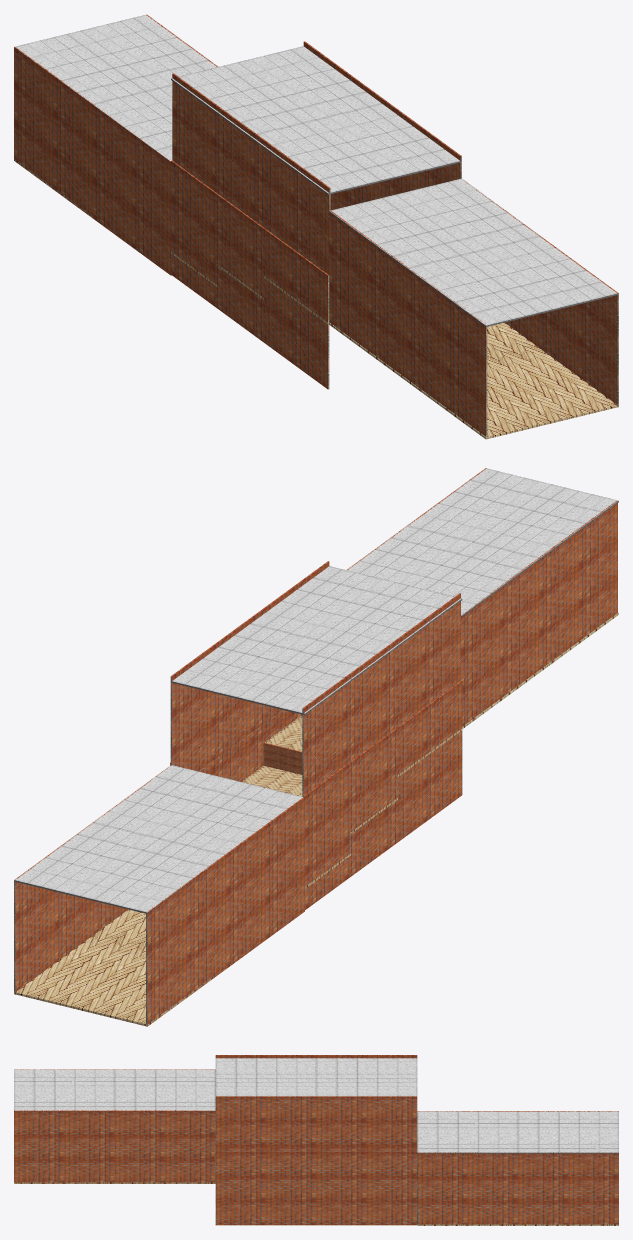
Rendered from Hallway_Stairs.fbx.
The picture shows the model from 3 angles, top to bottom: view 1: azimuth 30°, elevation 25°; view 2: azimuth 150°, elevation 25°; view 3: azimuth 270°, elevation 25°; orthographic projection. The views are drawn at different scales.
Visible parts, largest first — view 1: pasted__Wall1 (×2), pasted__Floor2 (×2), pasted__Floor7, pasted__Wall9, pasted__Wall11, pasted__Floor1, pasted__Wall2, pasted__Wall12; view 2: pasted__Floor2 (×2), pasted__Wall1 (×2), pasted__Floor7, pasted__Wall9, pasted__Wall11, pasted__Floor1, pasted__Wall12, pasted__Wall2, pasted__Wall10, pasted__Floor5, pasted__Wall8, pasted__Floor6; view 3: pasted__Wall2 (×2), pasted__Floor2 (×2), pasted__Wall10, pasted__Wall12, pasted__Floor7, pasted__Wall11, pasted__Floor1 (×2).
Boxes of the visible parts, x1,y1,x2,y2 form: pasted__Wall1 (×2): (14,46,487,436); pasted__Floor2 (×2): (14,15,618,326); pasted__Floor7: (171,46,460,194); pasted__Wall9: (171,160,329,389); pasted__Wall11: (172,73,330,274); pasted__Floor1: (329,322,618,439); pasted__Wall2: (461,178,618,406); pasted__Wall12: (303,41,461,201); pasted__Floor2 (×2): (14,468,618,913); pasted__Wall1 (×2): (146,501,617,1026); pasted__Floor7: (171,566,462,715); pasted__Wall9: (303,681,462,909); pasted__Wall11: (302,593,460,796); pasted__Floor1: (14,909,232,1026); pasted__Wall12: (170,561,329,771); pasted__Wall2: (14,765,171,993); pasted__Wall10: (170,710,301,781); pasted__Floor5: (242,766,397,833); pasted__Wall8: (263,742,397,797); pasted__Floor6: (265,715,462,776); pasted__Wall2 (×2): (14,1110,618,1224); pasted__Floor2 (×2): (14,1069,618,1153); pasted__Wall10: (215,1152,417,1225); pasted__Wall12: (215,1096,417,1151); pasted__Floor7: (215,1058,417,1096); pasted__Wall11: (215,1055,417,1058); pasted__Floor1 (×2): (14,1182,618,1225).
Bounding box in the file's own units: 0.0494 × 0.0709 × 0.3.
3 materials, 3 textured.
